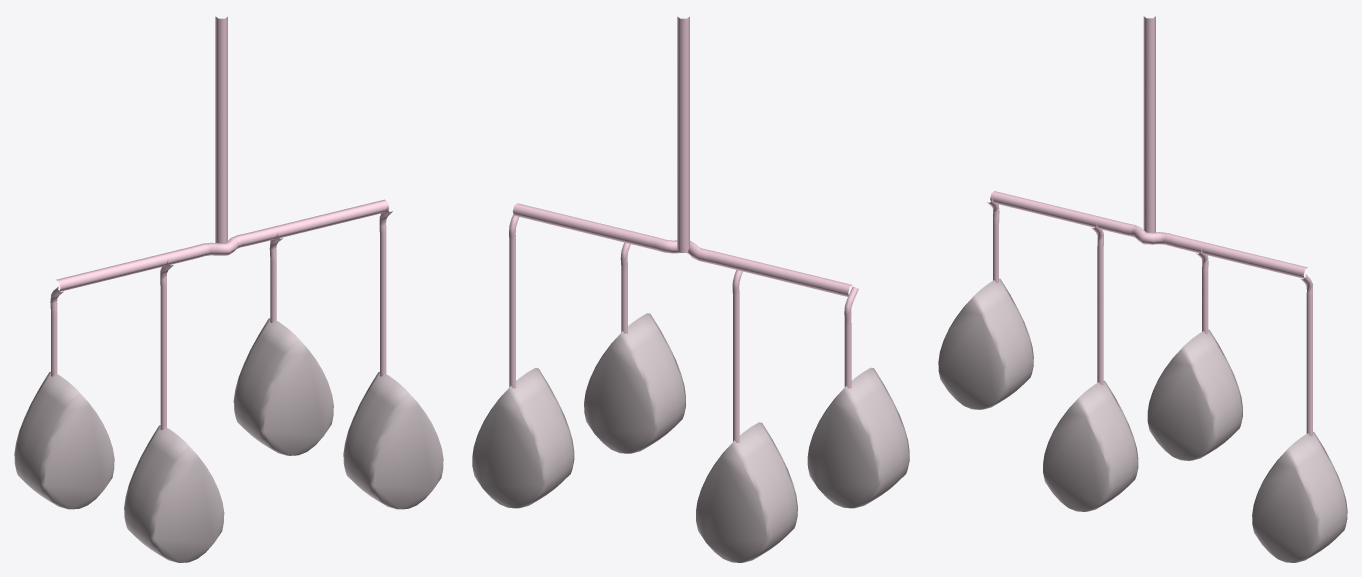
The model's file is decor_4_candy.glb.
3 renders of one model, left to right at view 1: azimuth 30°, elevation 25°; view 2: azimuth 150°, elevation 25°; view 3: azimuth 330°, elevation 25°, orthographic. The views are drawn at different scales.
Parts seen in each view (by area): view 1: decor_4_candy; view 2: decor_4_candy; view 3: decor_4_candy.
Boxes of the visible parts, <box> form: decor_4_candy: <box>14,16,443,562</box>; decor_4_candy: <box>472,16,909,562</box>; decor_4_candy: <box>938,16,1347,562</box>.
Size of the model in its own units: 7.38 by 9.05 by 0.9537.
